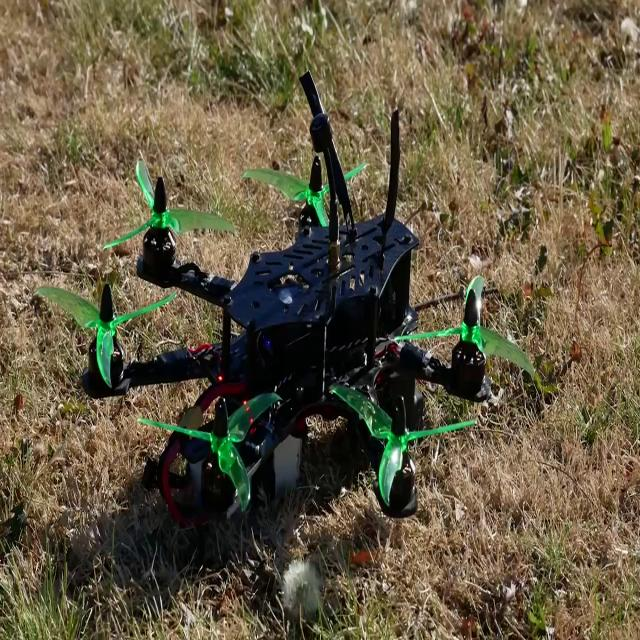drone: (77, 147, 532, 543)
